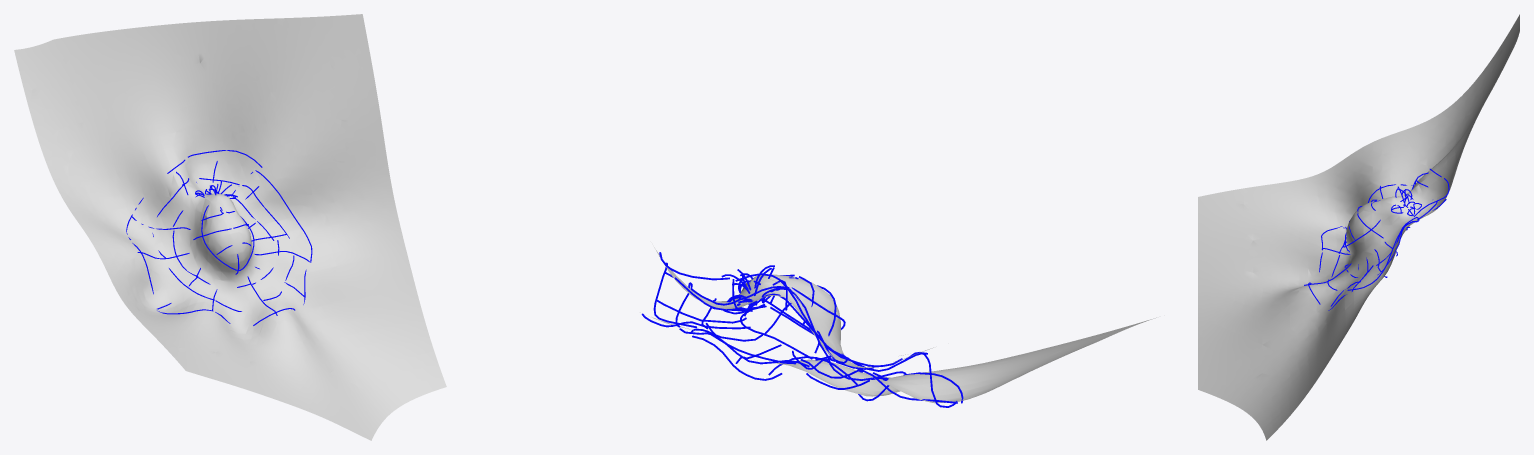
The model's file is cassie_hat_sketch_proxy.glb.
The picture shows the model from 3 angles, left to right: view 1: azimuth 30°, elevation 25°; view 2: azimuth 150°, elevation 25°; view 3: azimuth 270°, elevation 25°; orthographic projection. The views are drawn at different scales.
Visible parts, largest first — view 1: cassie_hat_surface, cassie_hat; view 2: cassie_hat_surface, cassie_hat; view 3: cassie_hat_surface, cassie_hat.
Part boxes in pixels (bbox=[...]): cassie_hat_surface: bbox=[14, 14, 446, 440]; cassie_hat: bbox=[126, 150, 312, 325]; cassie_hat_surface: bbox=[640, 247, 1156, 403]; cassie_hat: bbox=[641, 252, 963, 407]; cassie_hat_surface: bbox=[1198, 14, 1519, 440]; cassie_hat: bbox=[1304, 168, 1449, 310].
Size of the model in its own units: 1.21 by 1.21 by 1.21.
